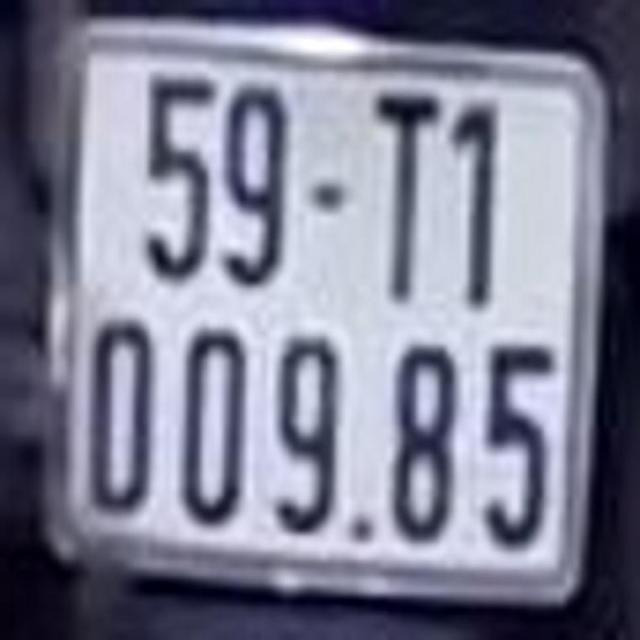0: (180, 318, 248, 524), (86, 315, 150, 512)
1: (448, 88, 504, 314)
5: (140, 70, 214, 278), (480, 340, 554, 546)
8: (380, 336, 460, 545)
9: (266, 330, 341, 533), (221, 79, 291, 282)
T: (368, 83, 442, 312)
